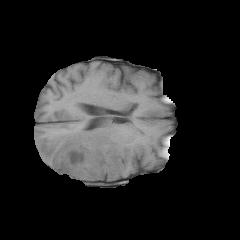glioma: (40, 129, 127, 180)
